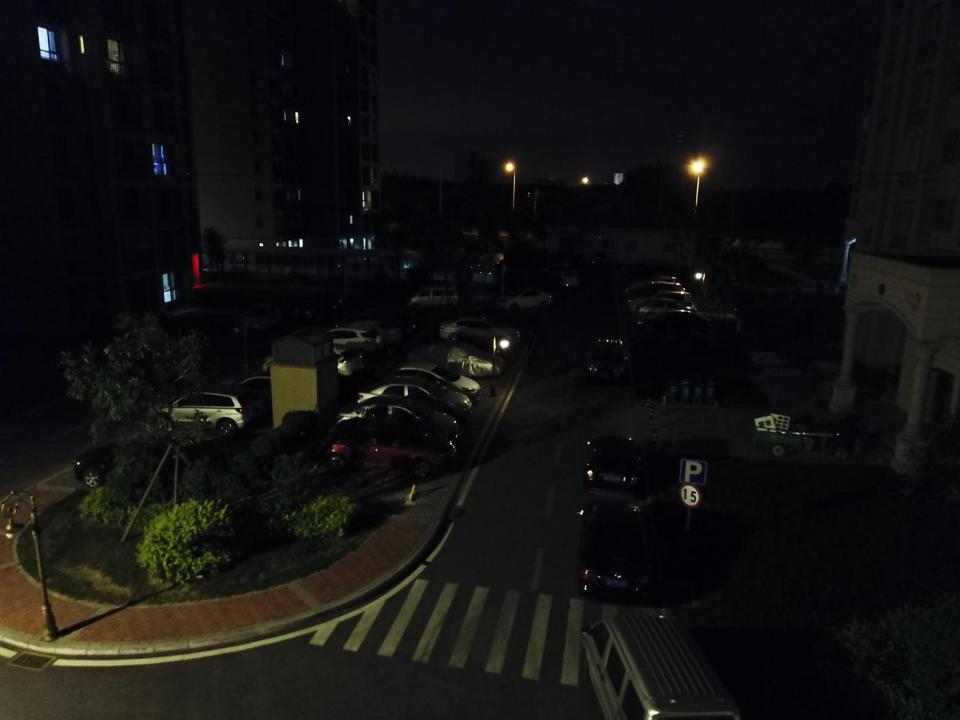car: (327, 419, 457, 483), (578, 498, 654, 604), (74, 436, 204, 490), (334, 399, 460, 446), (153, 383, 263, 434), (574, 430, 644, 501), (262, 339, 366, 380), (354, 377, 471, 412), (386, 361, 480, 404), (408, 342, 503, 379), (316, 320, 384, 355), (217, 371, 287, 403), (442, 316, 521, 344), (588, 332, 630, 378), (636, 312, 714, 334), (625, 281, 685, 308), (494, 286, 554, 312), (293, 292, 344, 322), (623, 275, 684, 300), (350, 316, 404, 344), (627, 292, 694, 314), (638, 300, 696, 325), (238, 301, 285, 331), (588, 253, 610, 275), (560, 268, 582, 288)
van: (574, 610, 743, 720), (405, 284, 462, 309)
